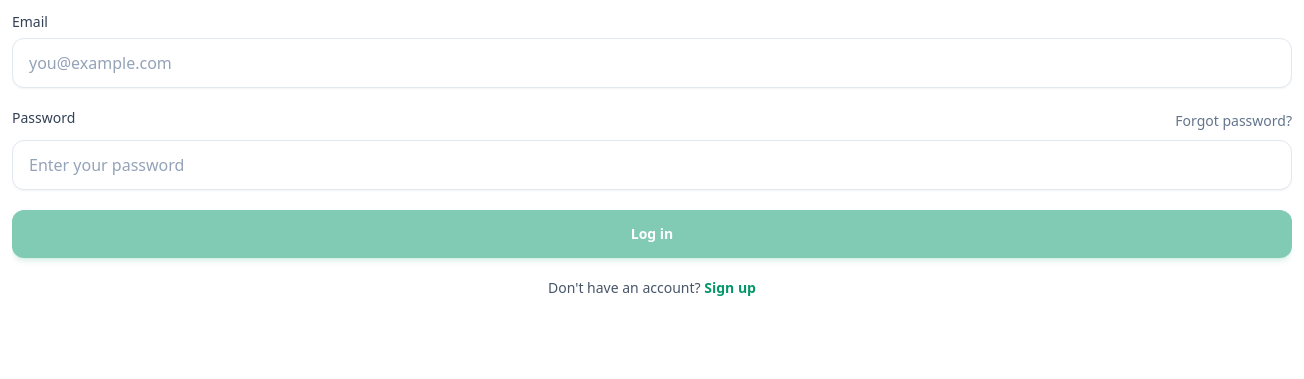
LoginForm › shows fallback error message when fetch throws a network error
Type "a@test.com" into the field labelled "Email". click: point(652, 63)
box: [12,38,1292,88]
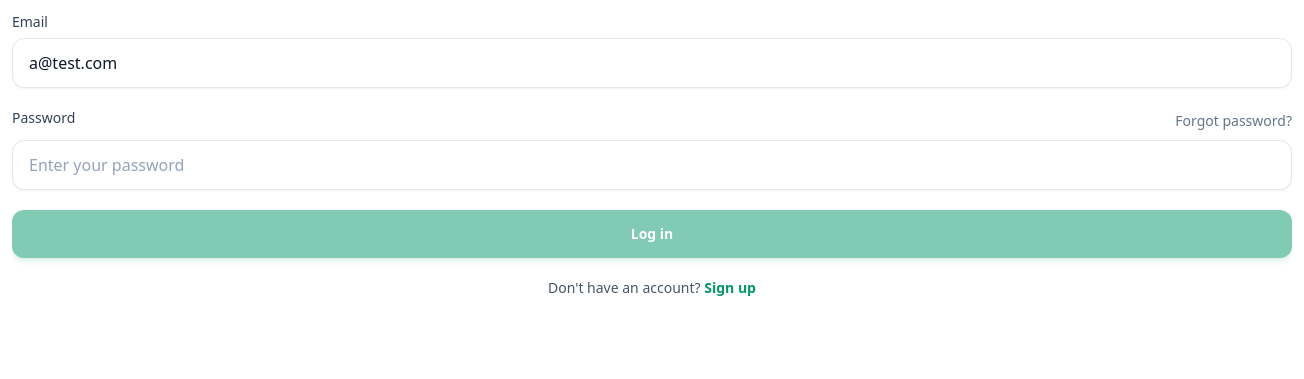
Type "pass1234" into the password field with placeholder "Enter your password". click: point(652, 165)
box: [12,140,1292,190]
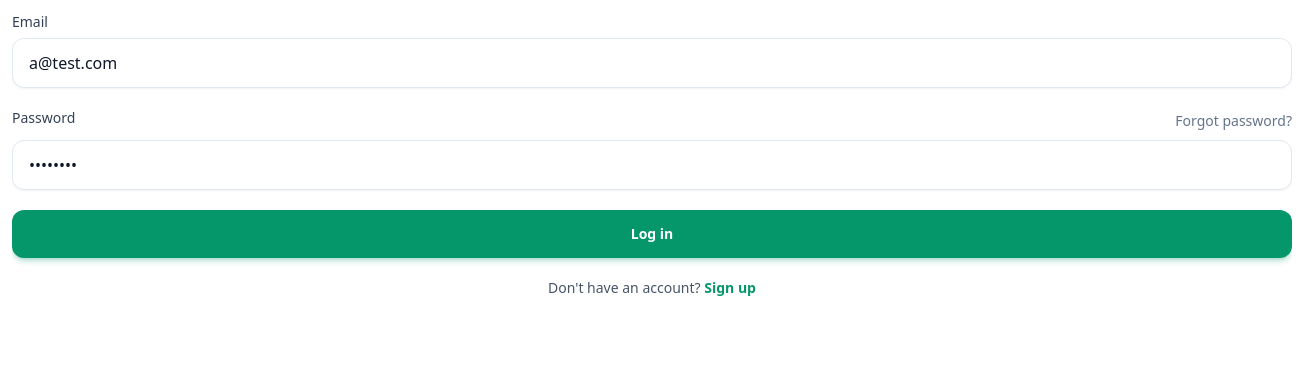
Click the button "Log in". click: point(652, 234)
box: [12,210,1292,258]
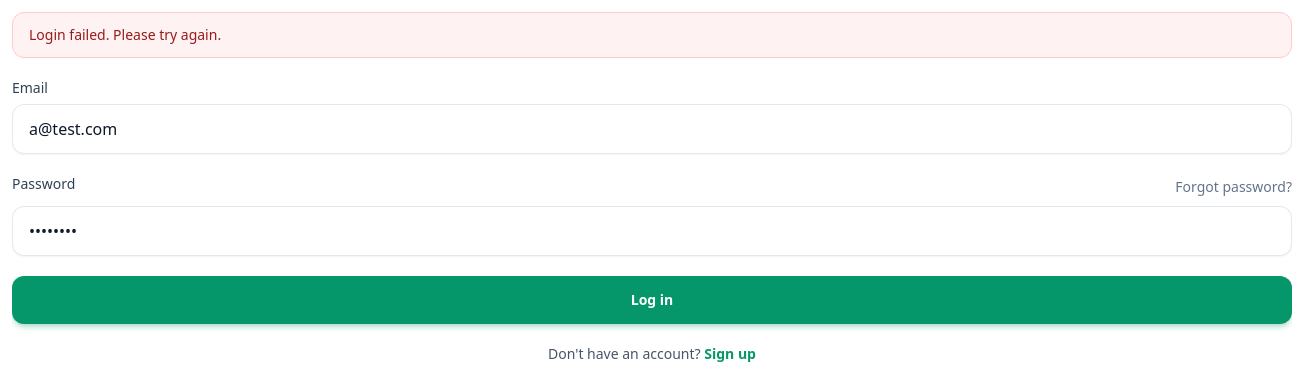
Expected: the message shows "Login failed", [29,25,221,44]
